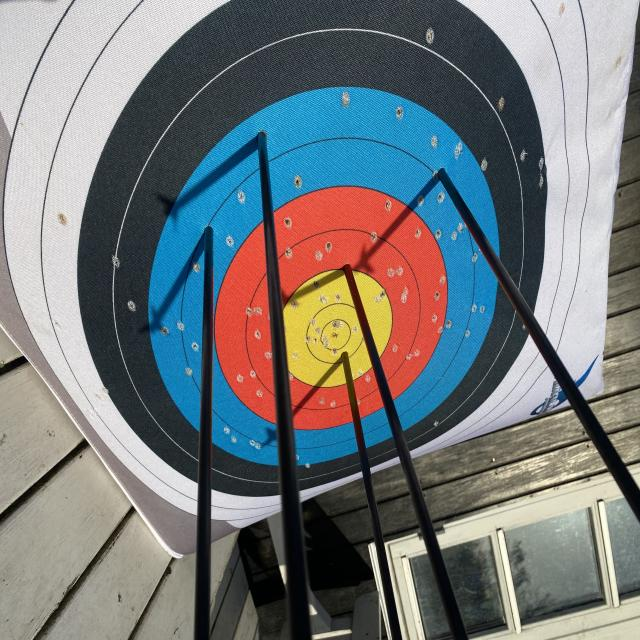Arrow_Blue: (190, 208, 232, 262), (416, 149, 459, 197), (243, 122, 286, 156)
Arrow_Red: (335, 243, 366, 287)
Arrow_Yellow: (326, 336, 356, 384)
